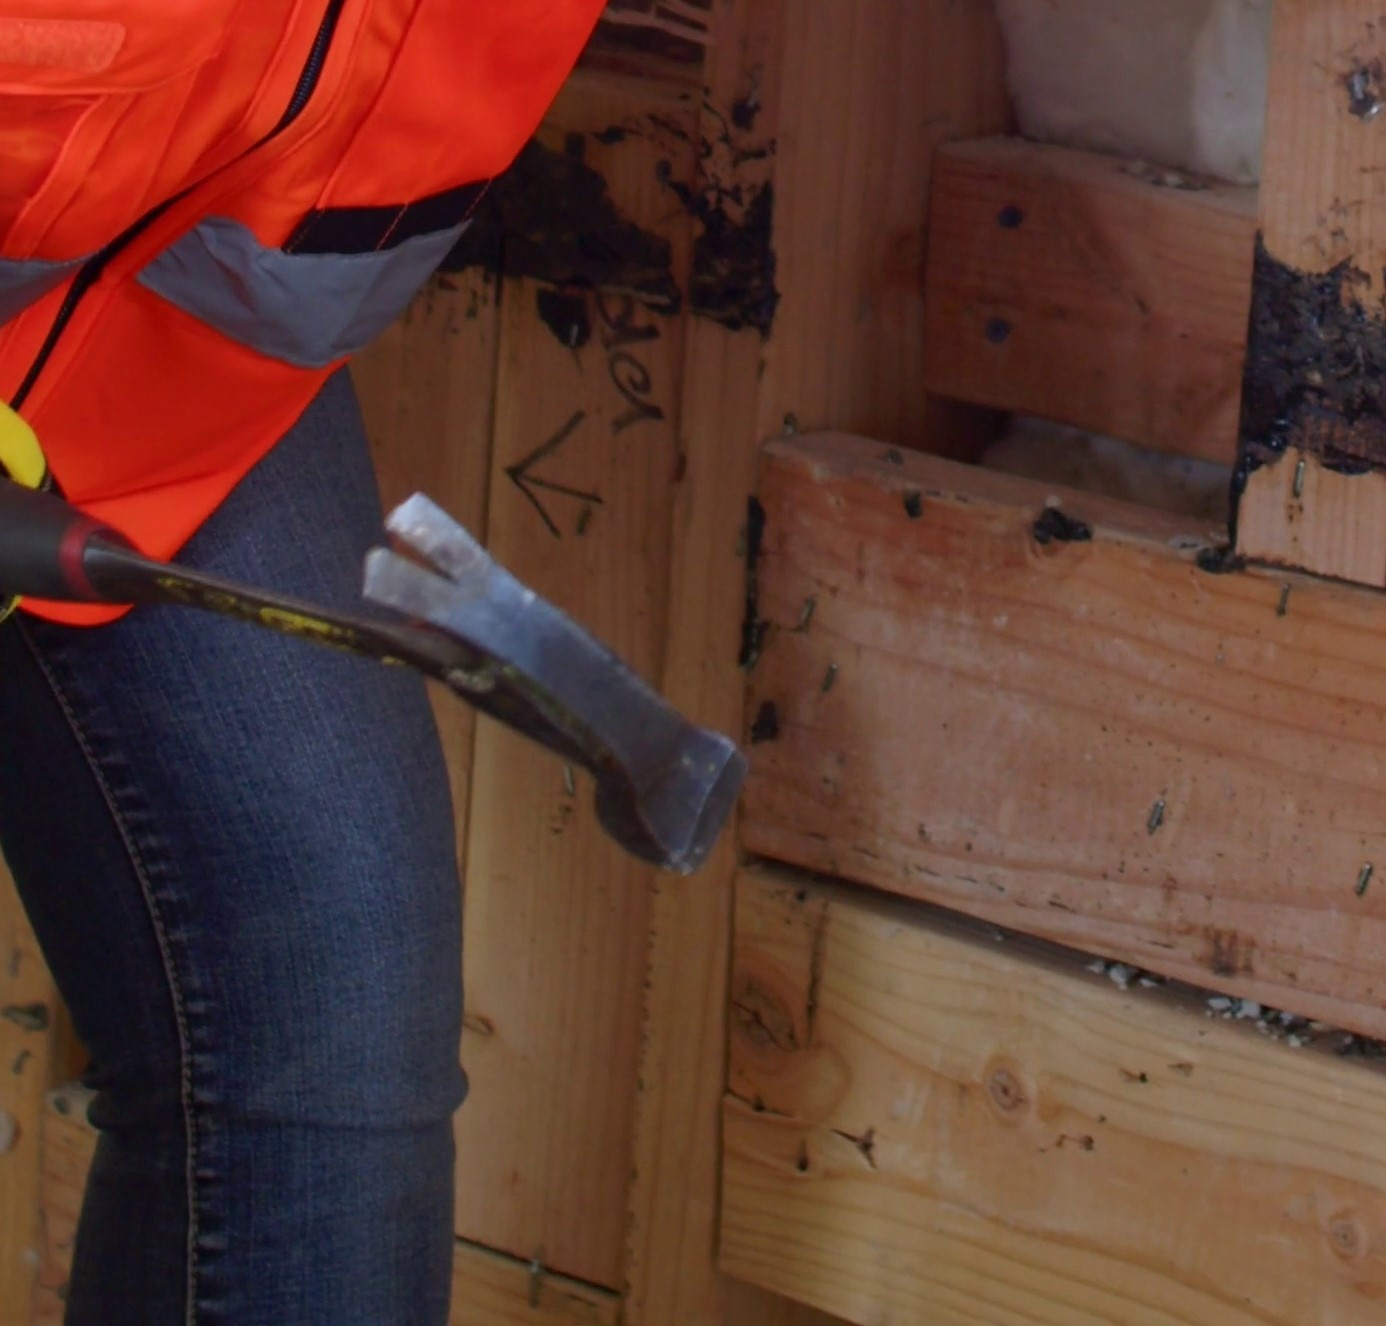hammer: (2, 479, 757, 884)
